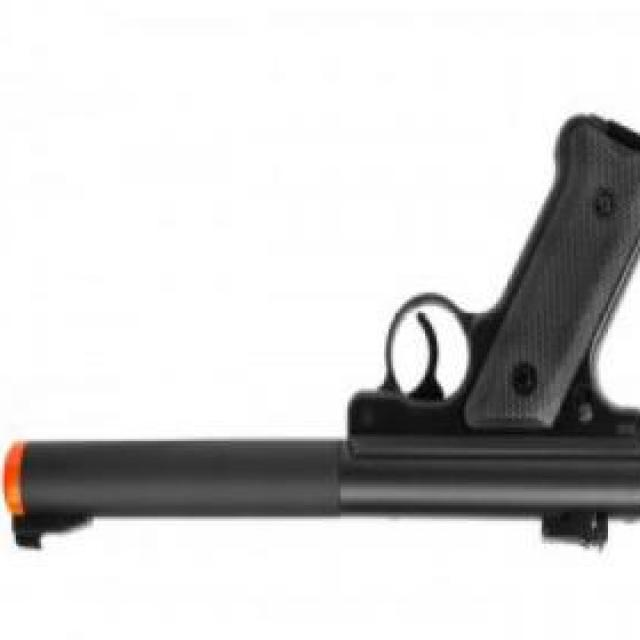pistol: (7, 114, 640, 556)
